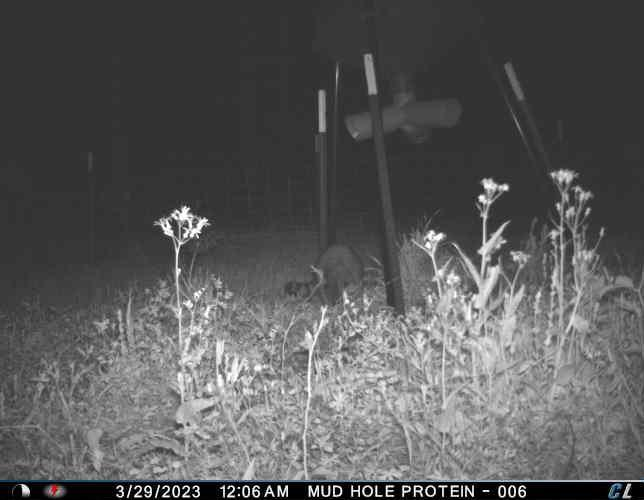Raccoon: (287, 244, 370, 308), (401, 228, 451, 330)
